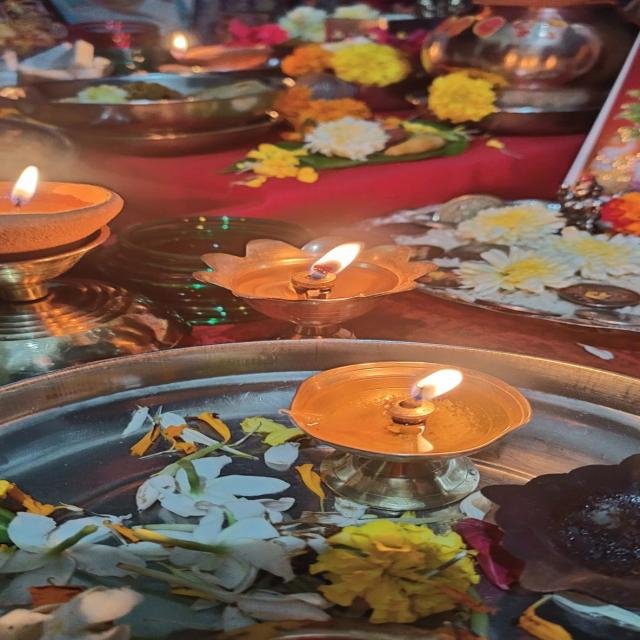fire: (308, 242, 361, 281), (408, 368, 464, 404), (9, 165, 41, 208)
